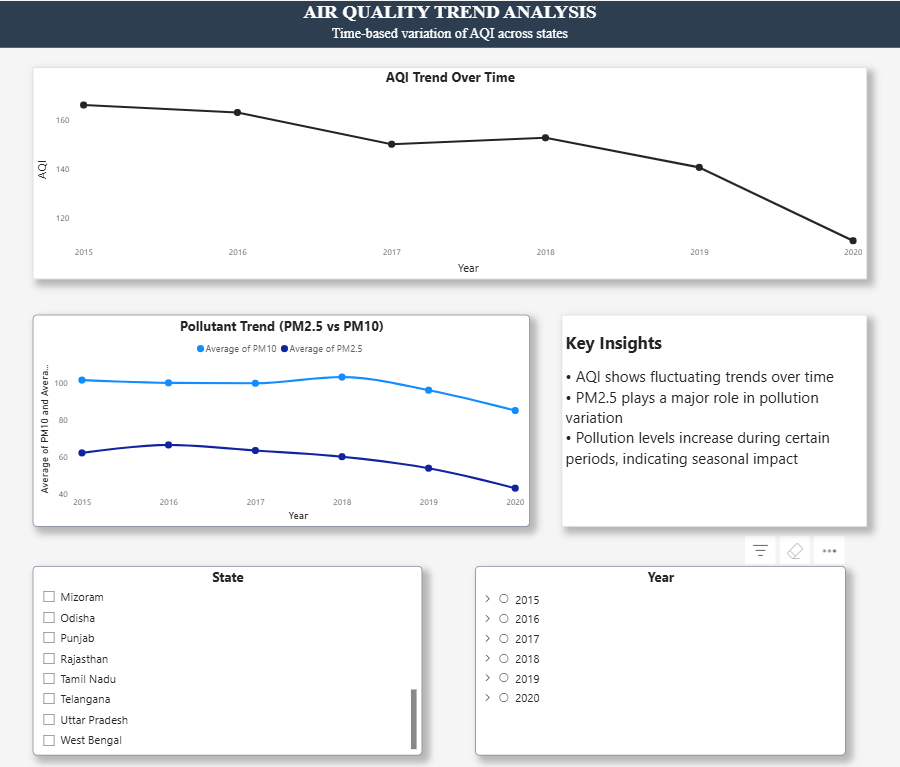

The dashboard page shown, as its layout file describes it:
{"tool":"powerbi","page":{"name":"Page 3","canvas":[1280,1100],"ordinal":2},"visuals":[{"type":"shape","title":"AIR QUALITY TREND ANALYSIS","box":[0,0,1279.7,66.2],"z":0},{"type":"lineChart","title":"AQI Trend Over Time","fields":{"Y":["Avg(Dashboard_ready.AQI)"],"Category":["Dashboard_ready.Date.Variation.Date Hierarchy.Year","Dashboard_ready.Date.Variation.Date Hierarchy.Quarter","Dashboard_ready.Date.Variation.Date Hierarchy.Month","Dashboard_ready.Date.Variation.Date Hierarchy.Day"]},"box":[47.7,94.2,1183.7,301.2],"z":1000},{"type":"lineChart","title":"Pollutant Trend (PM2.5 vs PM10)","fields":{"Category":["Dashboard_ready.Date.Variation.Date Hierarchy.Year","Dashboard_ready.Date.Variation.Date Hierarchy.Quarter","Dashboard_ready.Date.Variation.Date Hierarchy.Month","Dashboard_ready.Date.Variation.Date Hierarchy.Day"],"Y":["Avg(Dashboard_ready.PM10)","Avg(Dashboard_ready.PM2.5)"]},"box":[47.6,445.6,705.8,301],"z":2000},{"type":"slicer","title":"State","fields":{"Values":["Dashboard_ready.State"]},"box":[47.6,802.7,552.7,268.7],"z":3000},{"type":"listSlicer","fields":{"Values":["Dashboard_ready.Date.Variation.Date Hierarchy.Year","Dashboard_ready.Date.Variation.Date Hierarchy.Quarter","Dashboard_ready.Date.Variation.Date Hierarchy.Month","Dashboard_ready.Date.Variation.Date Hierarchy.Day"]},"box":[675.2,802.7,525.5,268.7],"z":4000},{"type":"textbox","box":[797.6,445.6,433.7,301],"z":5000}]}

Visuals, with their boxes in screenshot pixels (x1, y1, x2, y2), scaled from the page's 1280x1100 canvas onto the 900x767 screenshot:
"AIR QUALITY TREND ANALYSIS" shape: x1=0, y1=0, x2=899, y2=46
"AQI Trend Over Time" lineChart: x1=34, y1=66, x2=866, y2=276
"Pollutant Trend (PM2.5 vs PM10)" lineChart: x1=33, y1=311, x2=530, y2=521
"State" slicer: x1=33, y1=560, x2=422, y2=747
listSlicer - Dashboard_ready.Date.Variation.Date Hierarchy.Year x Dashboard_ready.Date.Variation.Date Hierarchy.Quarter: x1=475, y1=560, x2=844, y2=747
textbox: x1=561, y1=311, x2=866, y2=521
